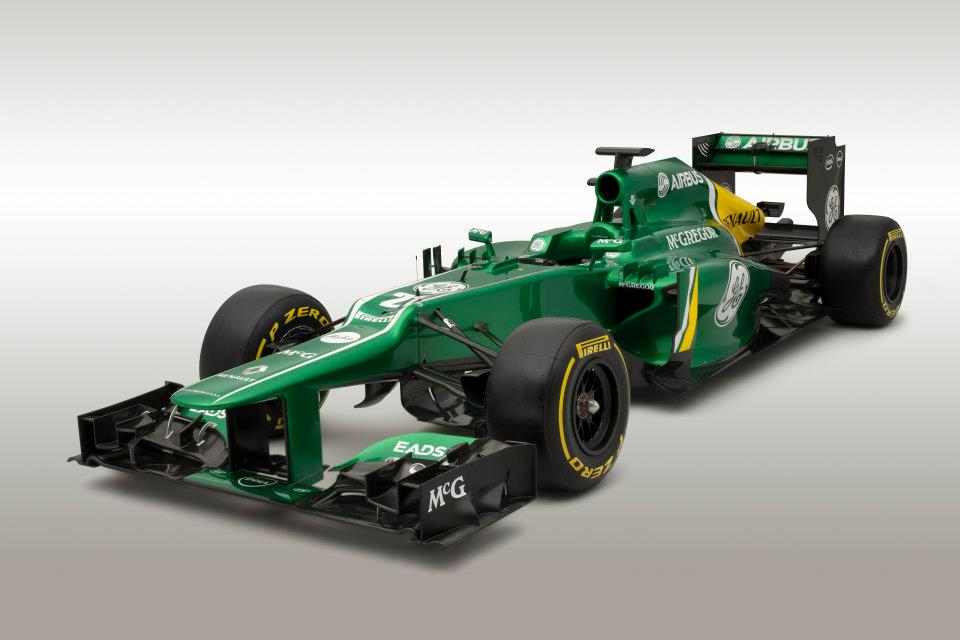f1_car: (56, 111, 933, 573)
